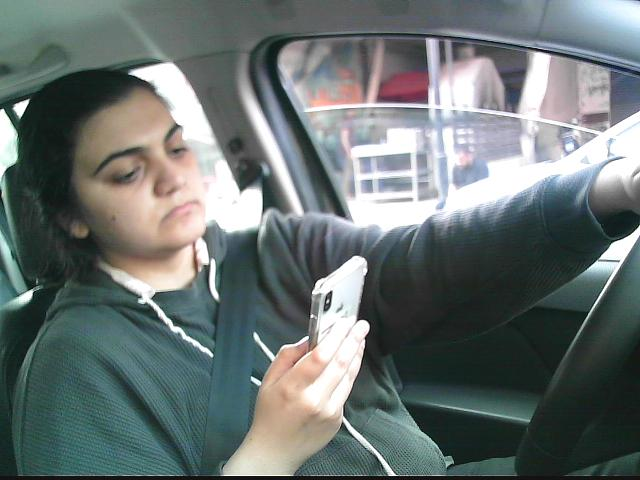PhoneUse: (304, 252, 372, 392)
